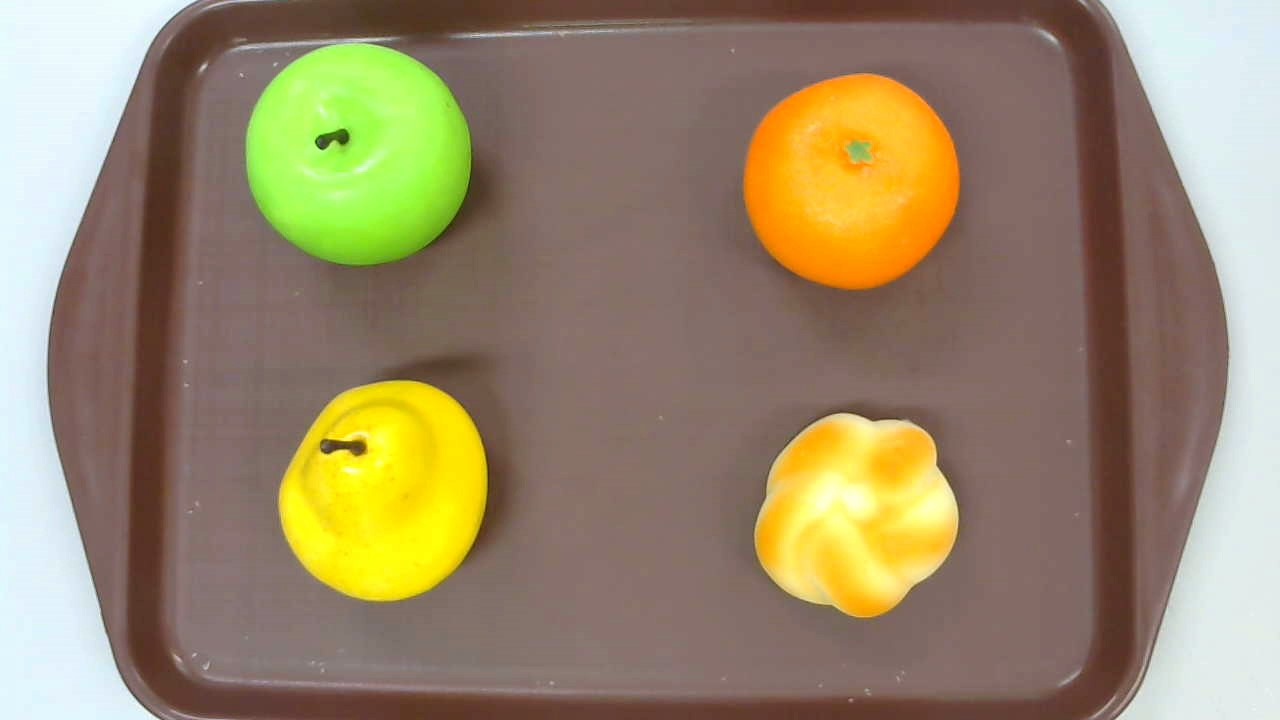green apple: (244, 43, 471, 268)
orange: (744, 73, 960, 290)
twist bread: (754, 413, 959, 618)
yellow pear: (278, 380, 486, 600)
